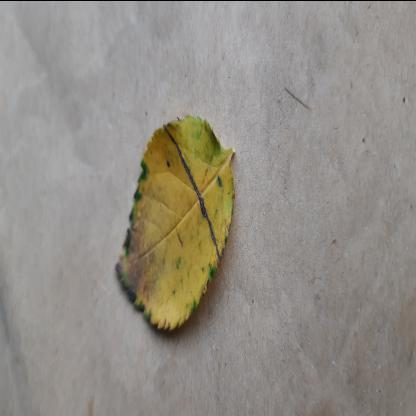black-spot: (114, 108, 240, 338)
